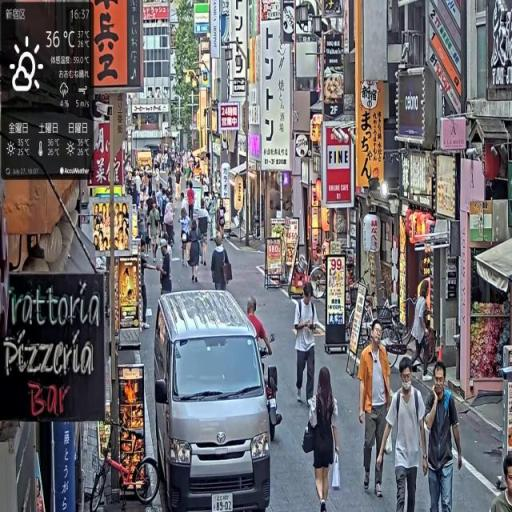person: (376, 356, 432, 512), (423, 361, 464, 511), (359, 320, 392, 503), (302, 365, 342, 512), (293, 283, 320, 409), (248, 295, 275, 361), (211, 231, 233, 293), (493, 454, 512, 512), (188, 219, 203, 288), (148, 200, 163, 262), (180, 204, 193, 270), (159, 238, 173, 296), (164, 198, 176, 252), (187, 179, 197, 224)
